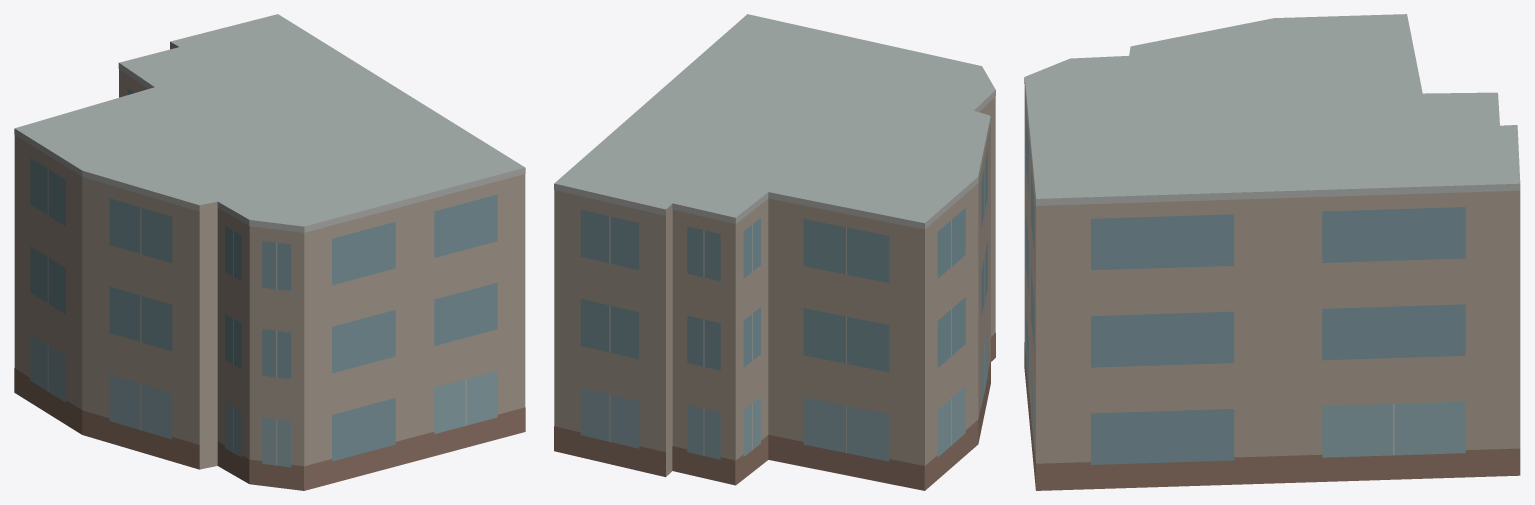
File: survey-upis-32984086.glb
3 views of the same model, side by side, from view 1: azimuth 30°, elevation 25°; view 2: azimuth 150°, elevation 25°; view 3: azimuth 270°, elevation 25° (orthographic). The views are drawn at different scales.
Parts seen in each view (by area): view 1: survey-upis-32984086.tmp; view 2: survey-upis-32984086.tmp; view 3: survey-upis-32984086.tmp.
Boxes of the visible parts, x1,y1,x2,y2 form: survey-upis-32984086.tmp: [14, 14, 525, 490]; survey-upis-32984086.tmp: [554, 14, 995, 490]; survey-upis-32984086.tmp: [1024, 14, 1520, 490].
Bounding box in the file's own units: 14 × 10.3 × 15.86.
